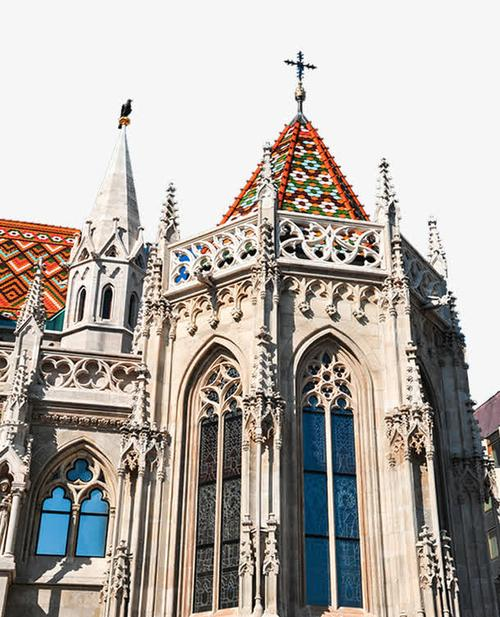buildings: (46, 126, 483, 600)
